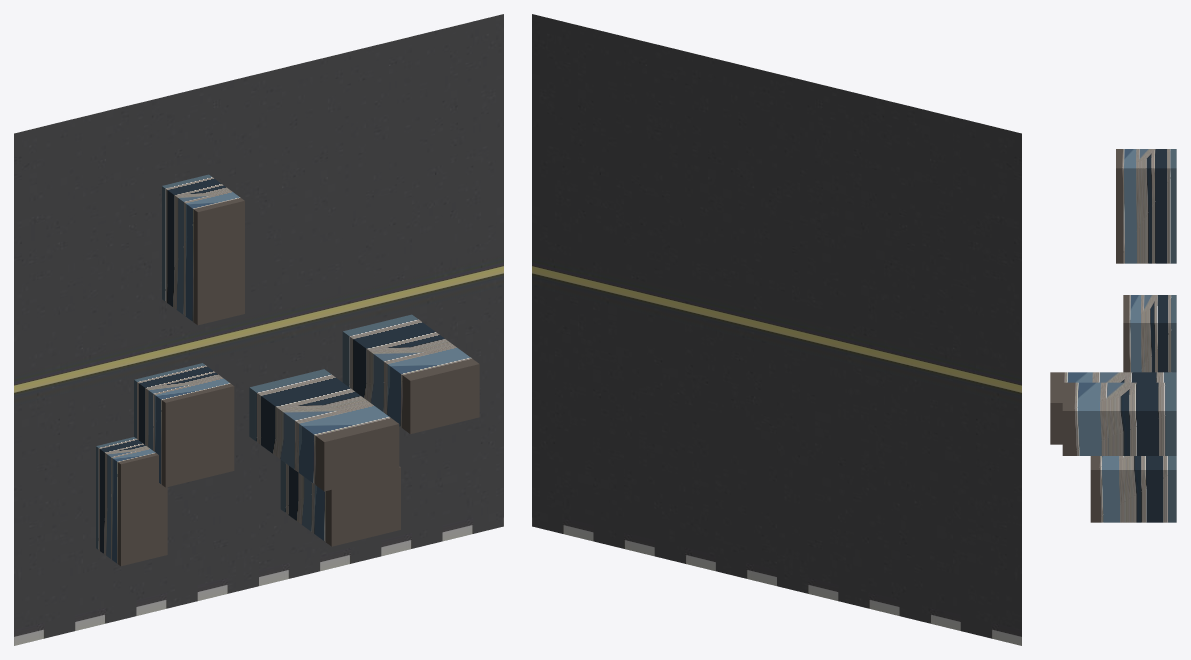
3 views of the same model, side by side, from view 1: azimuth 30°, elevation 25°; view 2: azimuth 150°, elevation 25°; view 3: azimuth 270°, elevation 25° (orthographic). The views are drawn at different scales.
Bounding box in the file's own units: 119 × 119 × 31.59.
2 materials, 2 textured.
